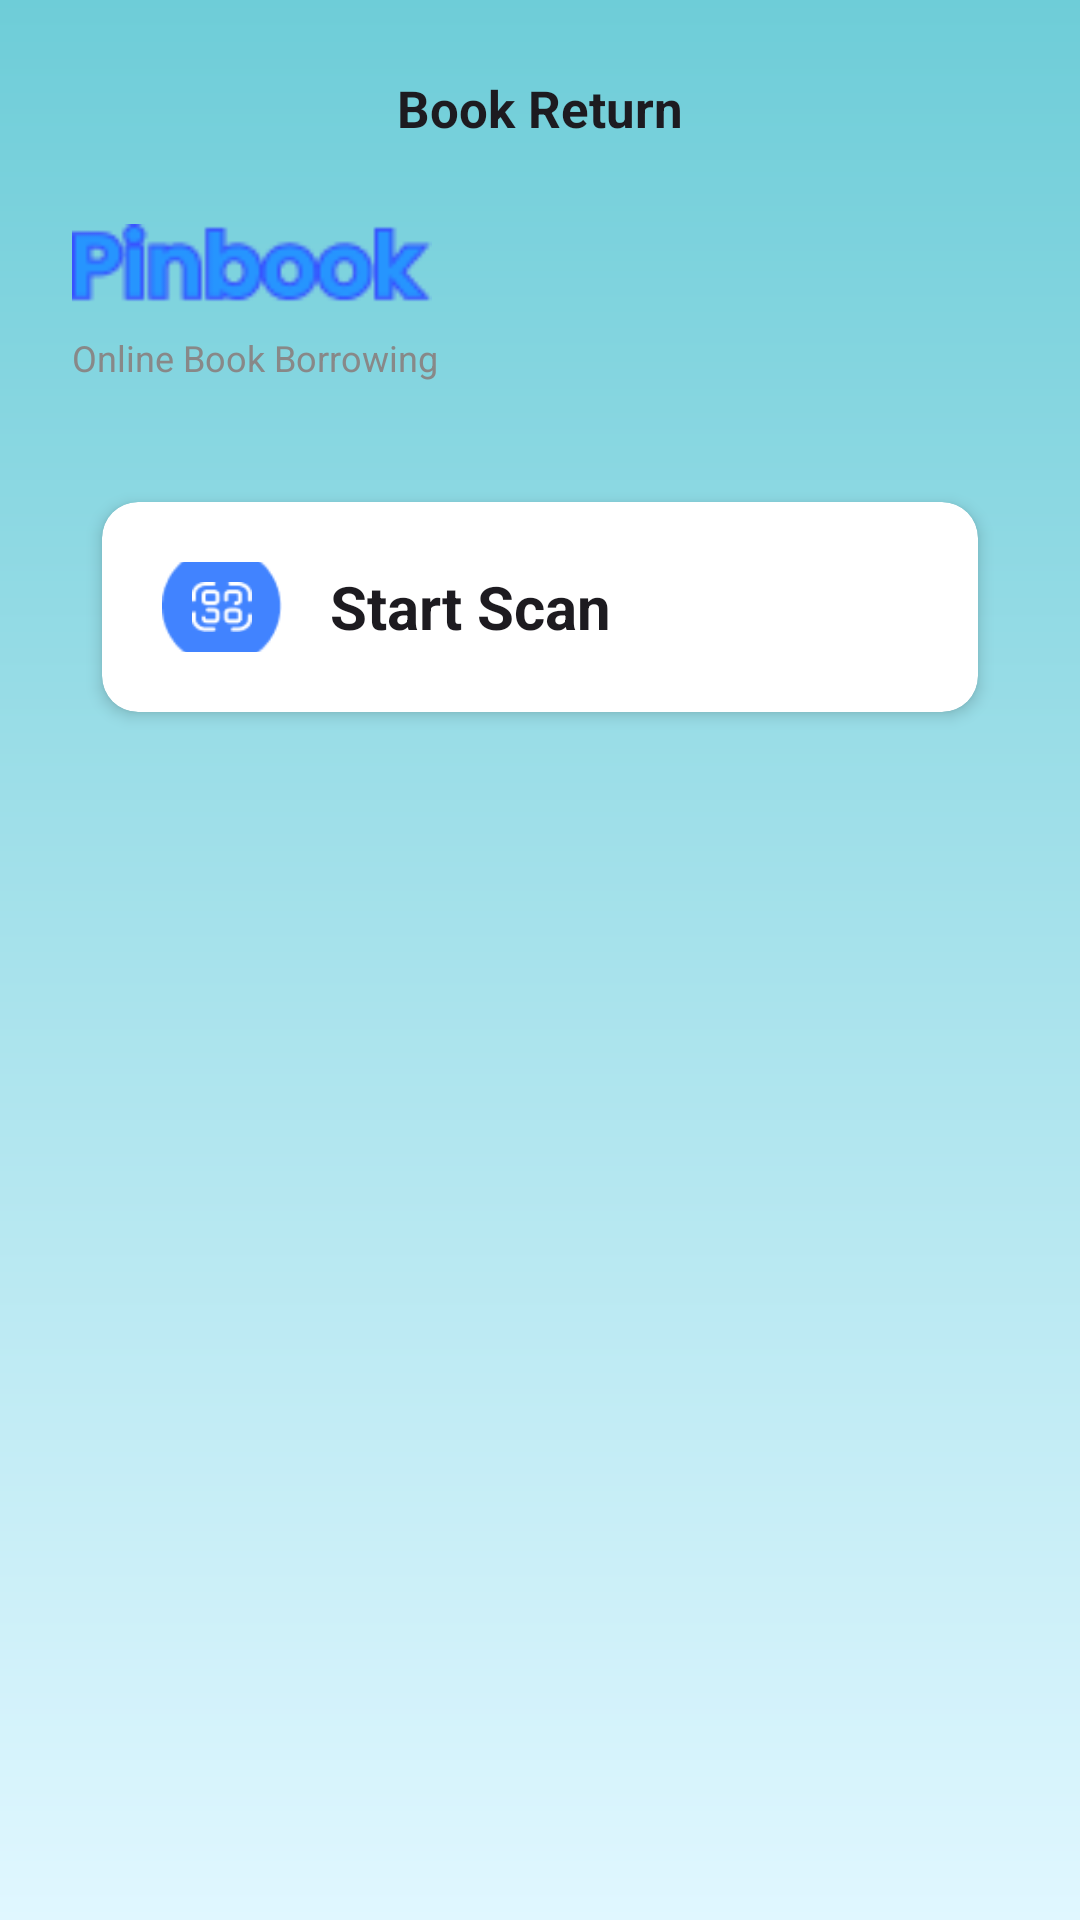

Icon click points for this 1080px x 1920px phone screenshot, format (x,y):
scan qr: (221,607)
